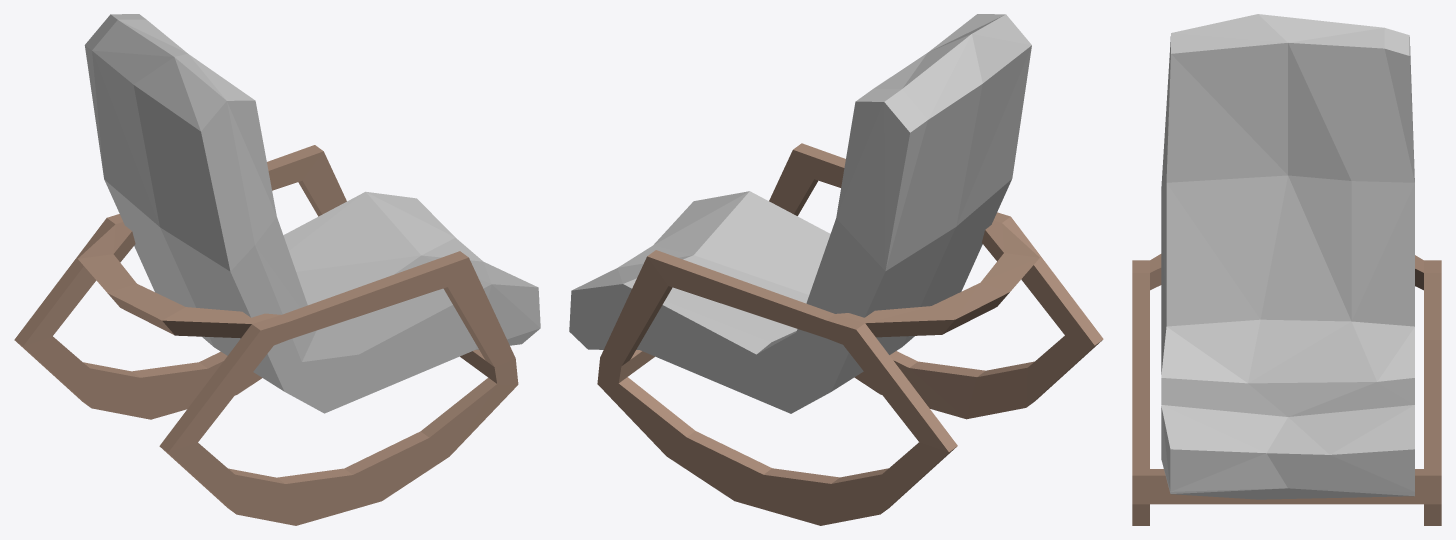
Rendered from rockingchair.fbx.
3 views of the same model, side by side, from view 1: azimuth 30°, elevation 25°; view 2: azimuth 150°, elevation 25°; view 3: azimuth 270°, elevation 25° (orthographic).
Visible parts, largest first — view 1: polySurface8; view 2: polySurface8; view 3: polySurface8.
Boxes of the visible parts, left/top/right/bottom form: polySurface8: left=14, top=14, right=540, bottom=525; polySurface8: left=569, top=14, right=1103, bottom=525; polySurface8: left=1132, top=14, right=1441, bottom=525.
Size of the model in its own units: 92.2 by 98.48 by 62.84.
